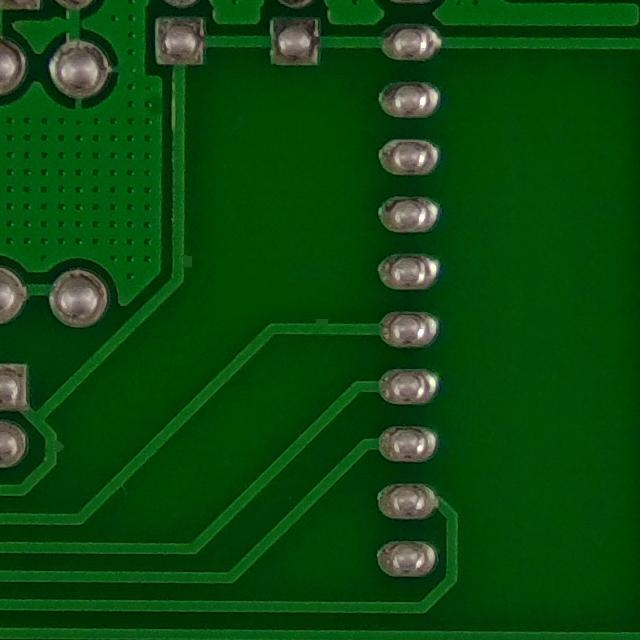spur: (302, 306, 338, 334)
